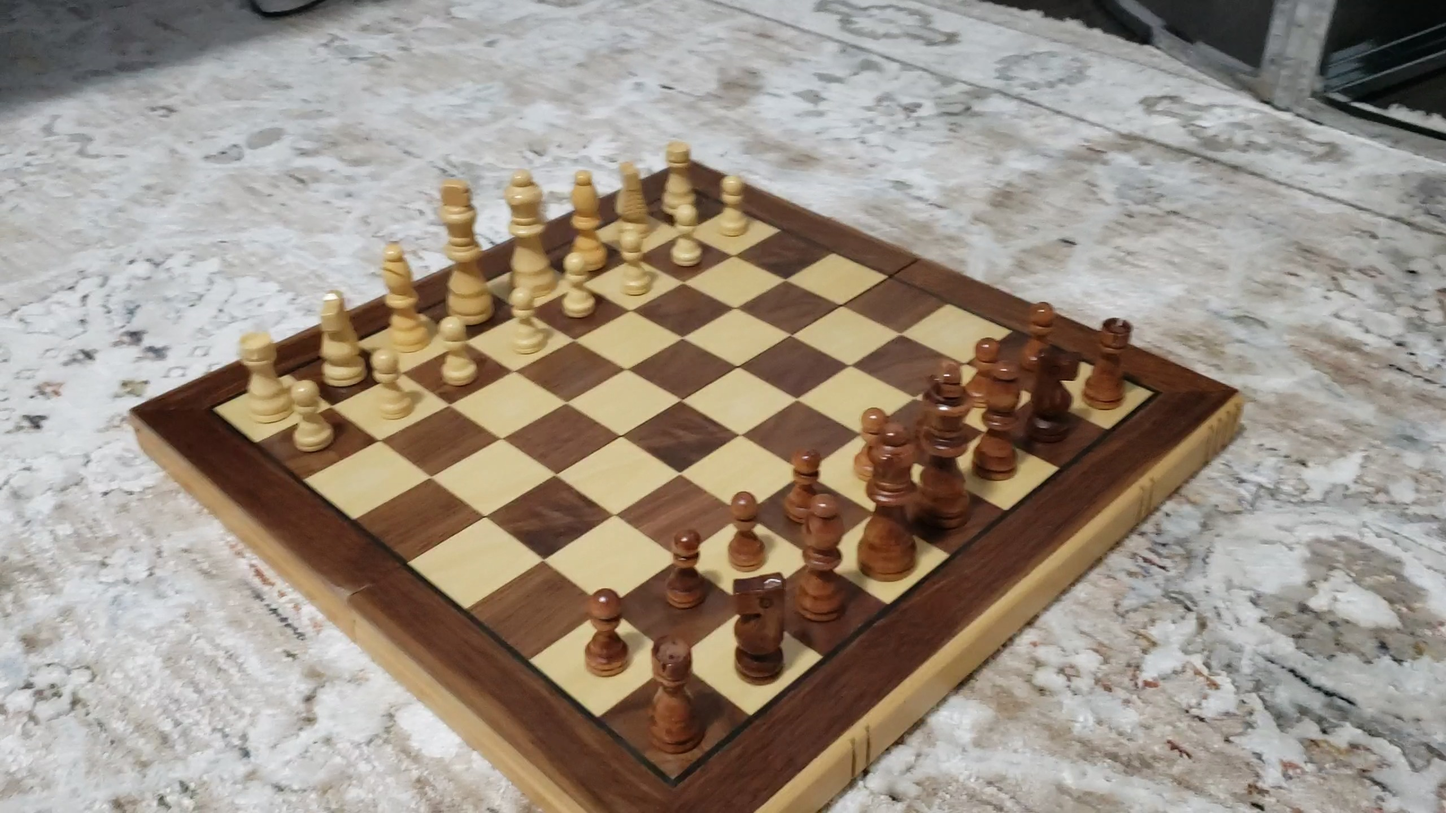black-bishop: (792, 485, 851, 623), (972, 355, 1031, 480)
black-king: (912, 365, 981, 532)
black-knight: (730, 571, 789, 684), (1028, 330, 1082, 446)
black-pawn: (581, 585, 633, 679), (780, 444, 826, 531), (662, 527, 709, 611), (722, 488, 768, 572), (1016, 297, 1060, 377), (848, 404, 891, 482), (960, 333, 1005, 405)
black-queen: (855, 404, 927, 582)
black-rook: (646, 634, 702, 755), (1083, 316, 1134, 410)
white-bishop: (377, 238, 428, 353), (567, 167, 606, 275)
white-king: (436, 175, 493, 327)
white-knight: (316, 289, 367, 388), (612, 157, 651, 248)
white-pawn: (280, 377, 341, 457), (363, 347, 421, 424), (607, 218, 660, 301), (430, 313, 484, 391), (499, 285, 553, 359), (552, 247, 601, 322), (662, 201, 710, 272), (711, 168, 754, 241)
white-queen: (503, 165, 552, 309)
white-rook: (234, 329, 293, 423), (660, 136, 700, 224)
